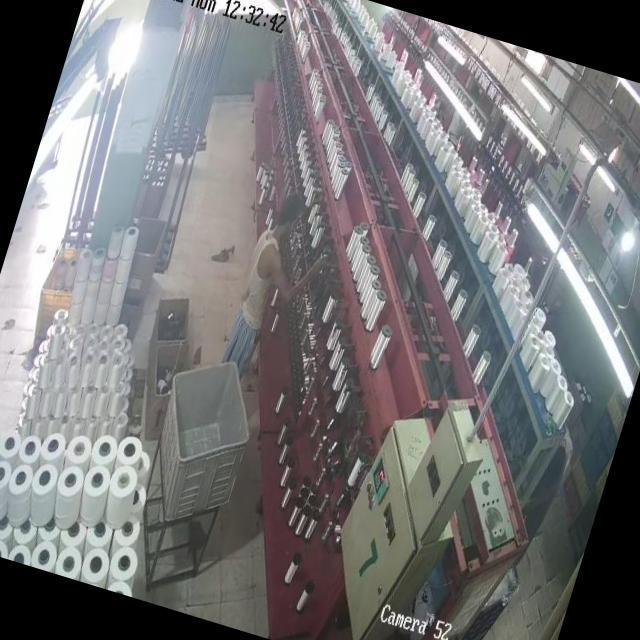person: (240, 180, 306, 342)
